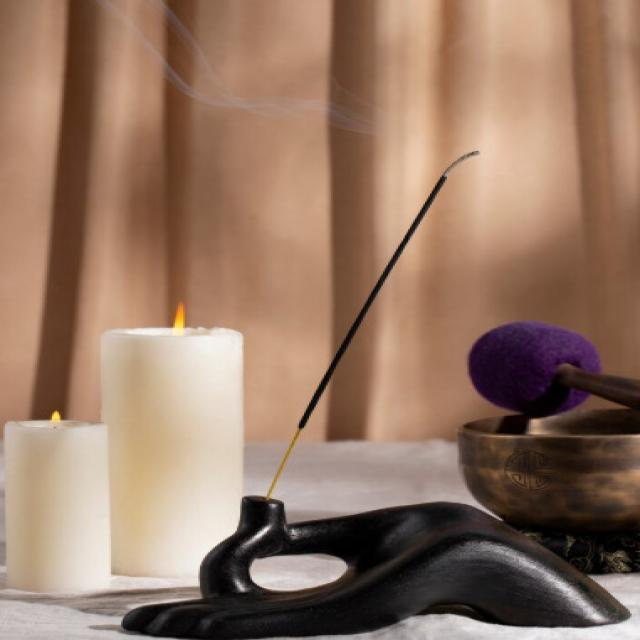Agarbatti: (233, 147, 487, 494)
